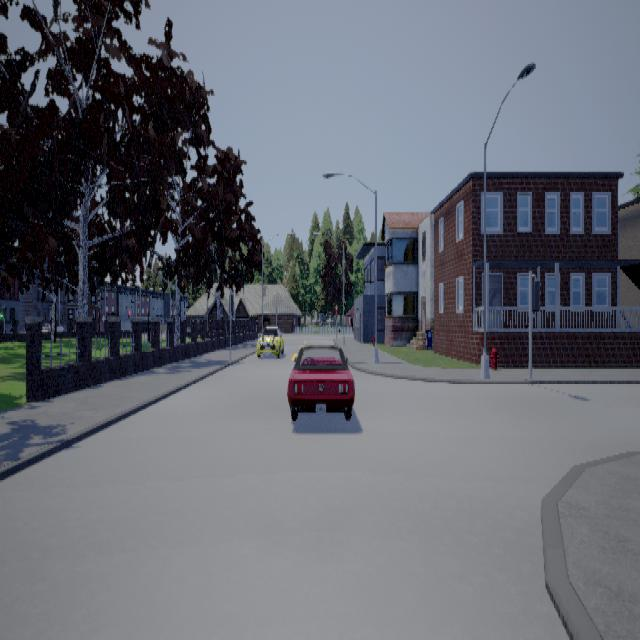traffic_light: (531, 273, 540, 315)
vehicle: (286, 344, 354, 419), (256, 325, 283, 357)
